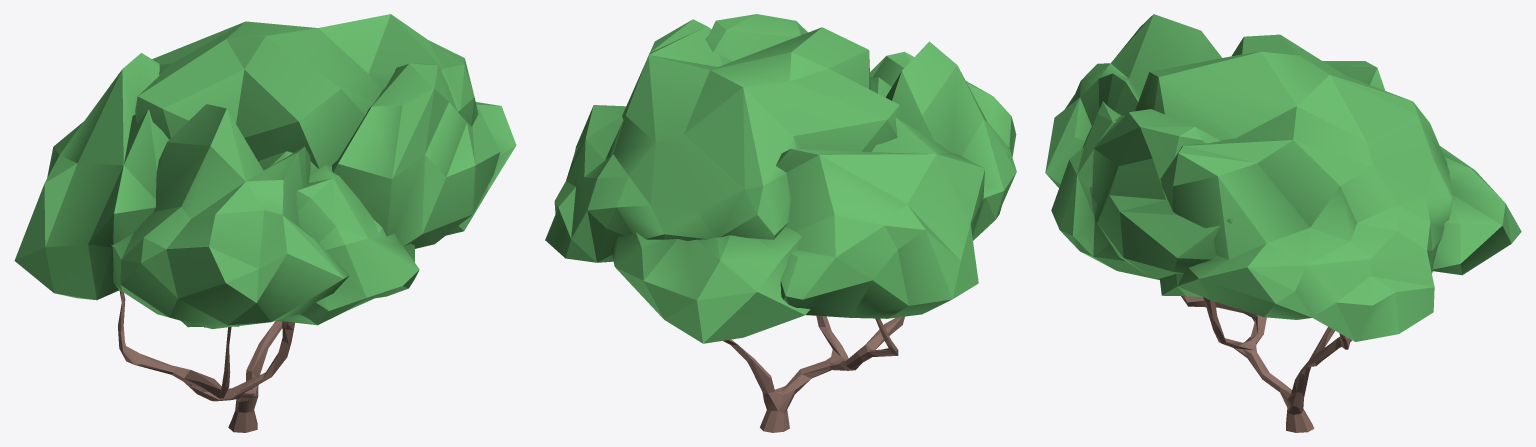
File: tree_006.glb
The picture shows the model from 3 angles, left to right: view 1: azimuth 30°, elevation 25°; view 2: azimuth 150°, elevation 25°; view 3: azimuth 270°, elevation 25°; orthographic projection. The views are drawn at different scales.
Parts seen in each view (by area): view 1: tree_006; view 2: tree_006; view 3: tree_006.
Boxes of the visible parts, bbox=[...] form: tree_006: bbox=[14, 14, 516, 432]; tree_006: bbox=[545, 14, 1016, 432]; tree_006: bbox=[1045, 14, 1521, 432].
Bounding box in the file's own units: 6.68 × 5.75 × 6.59.
1 material, 1 textured.
